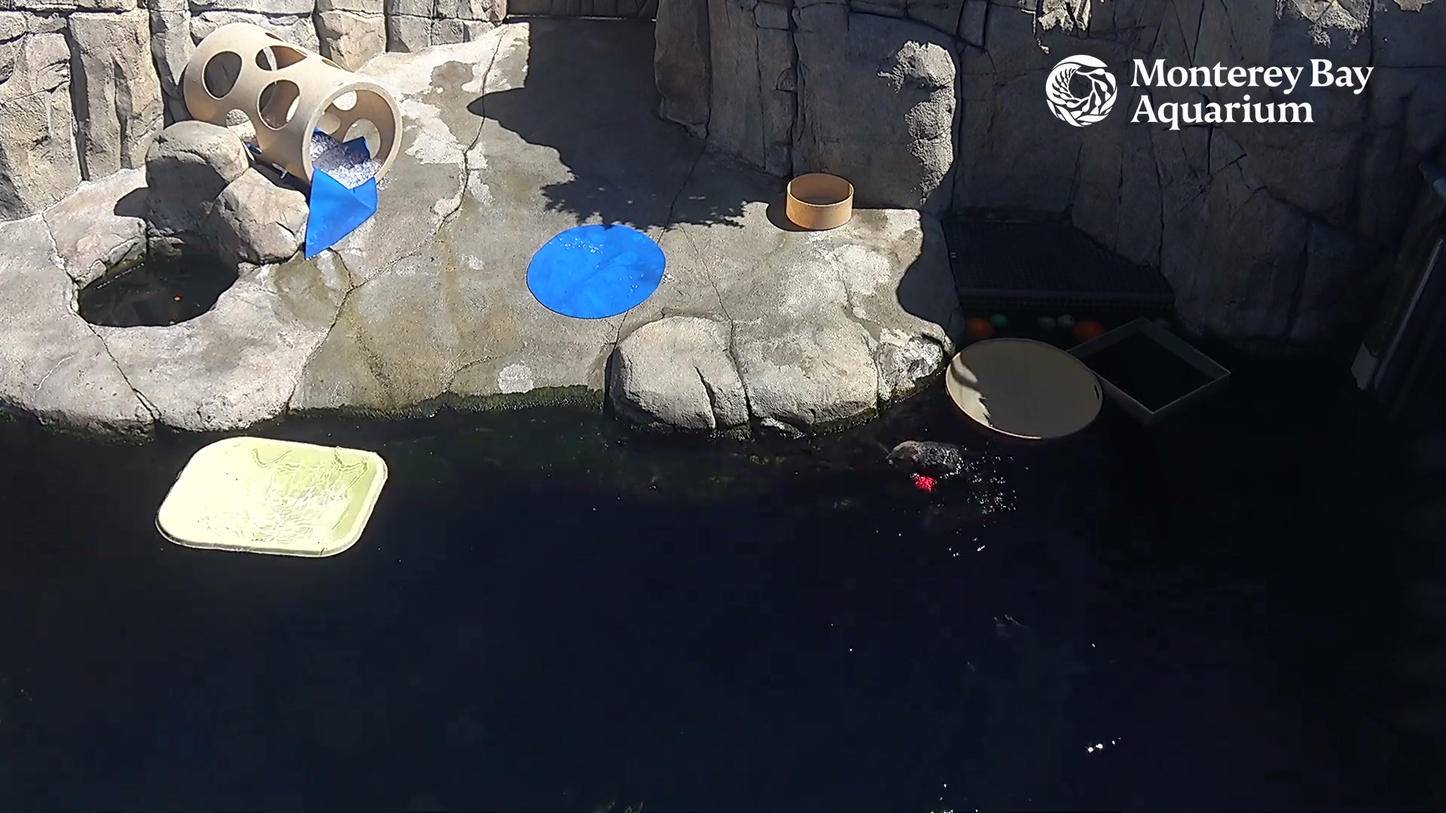Southern Sea Otter: (879, 433, 985, 515)
